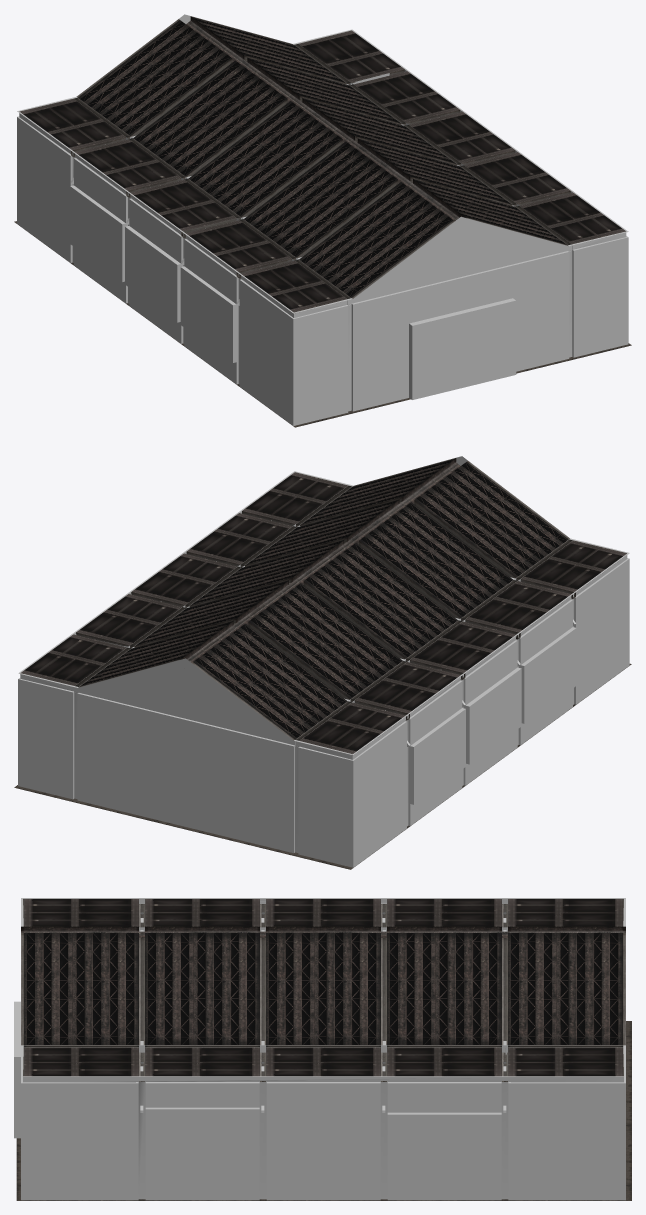
The model's file is map_garage_base.fbx.
3 views of the same model, one above another, from view 1: azimuth 30°, elevation 25°; view 2: azimuth 150°, elevation 25°; view 3: azimuth 270°, elevation 25° (orthographic). The views are drawn at different scales.
Visible parts, largest first — view 1: map_garage_base; view 2: map_garage_base; view 3: map_garage_base.
Part boxes in pixels (x1,y1,x2,y2): map_garage_base: (14,14,631,427); map_garage_base: (14,456,631,869); map_garage_base: (14,898,631,1200).
Bounding box in the file's own units: 31.07 × 14.59 × 44.31.
